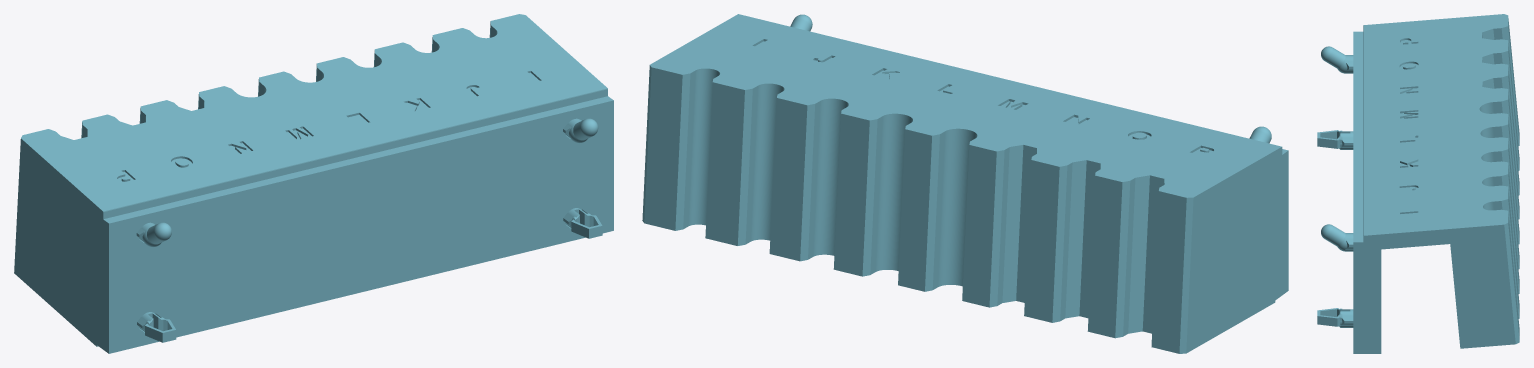
The model's file is part-ms01-i-p__current-mounts-v1__fit-pf02c9-hoop5__installed.glb.
3 views of the same model, side by side, from view 1: azimuth 30°, elevation 25°; view 2: azimuth 150°, elevation 25°; view 3: azimuth 270°, elevation 25° (orthographic). The views are drawn at different scales.
Visible parts, largest first — view 1: installed.stl; view 2: installed.stl; view 3: installed.stl.
Part boxes in pixels (left/top/right/bottom): installed.stl: left=14, top=14, right=613, bottom=353; installed.stl: left=642, top=14, right=1288, bottom=353; installed.stl: left=1317, top=14, right=1519, bottom=353.
Bounding box in the file's own units: 0.1504 × 0.0437 × 0.0611.
